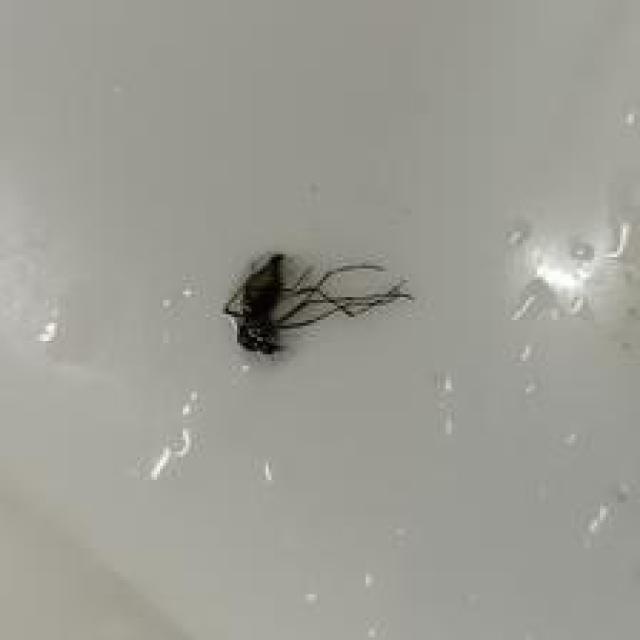Aedes albopictus: (221, 249, 413, 357)
